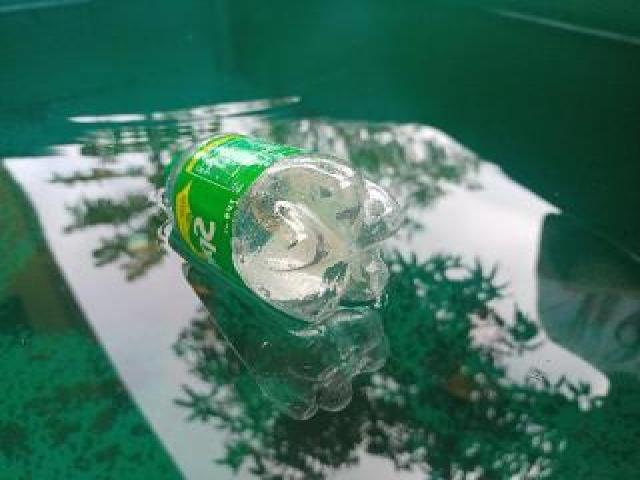Bottle: (150, 125, 416, 333)
